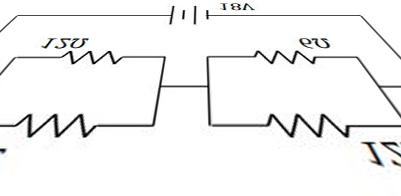resistor: (254, 102, 352, 152), (10, 104, 114, 139), (249, 43, 317, 75)
